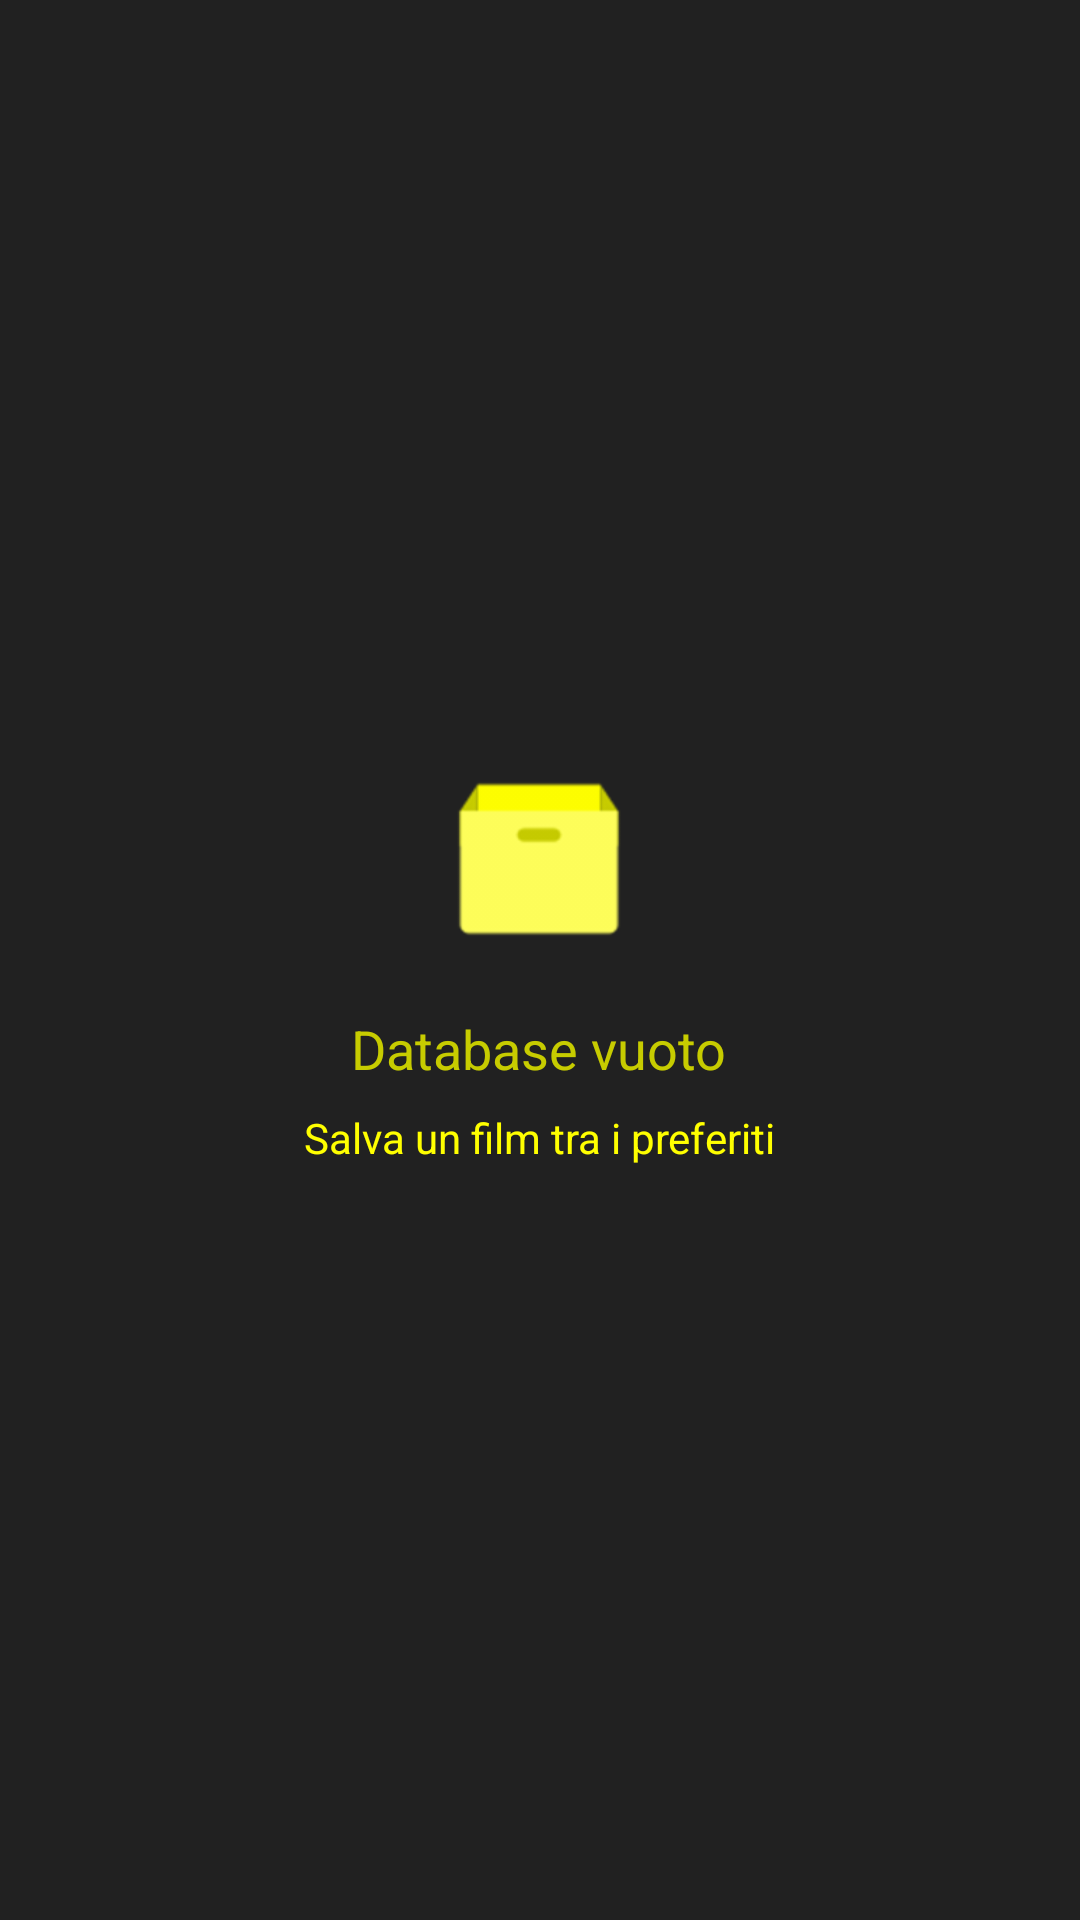

Named icons in this screenshot (1080px x 1920px) and their bounding boxes, (x1, y1, x2, y2):
empty db: (459, 783, 619, 935)
